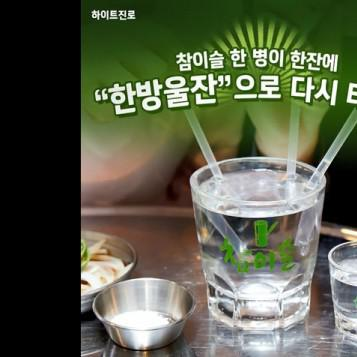soju: (187, 153, 328, 327)
